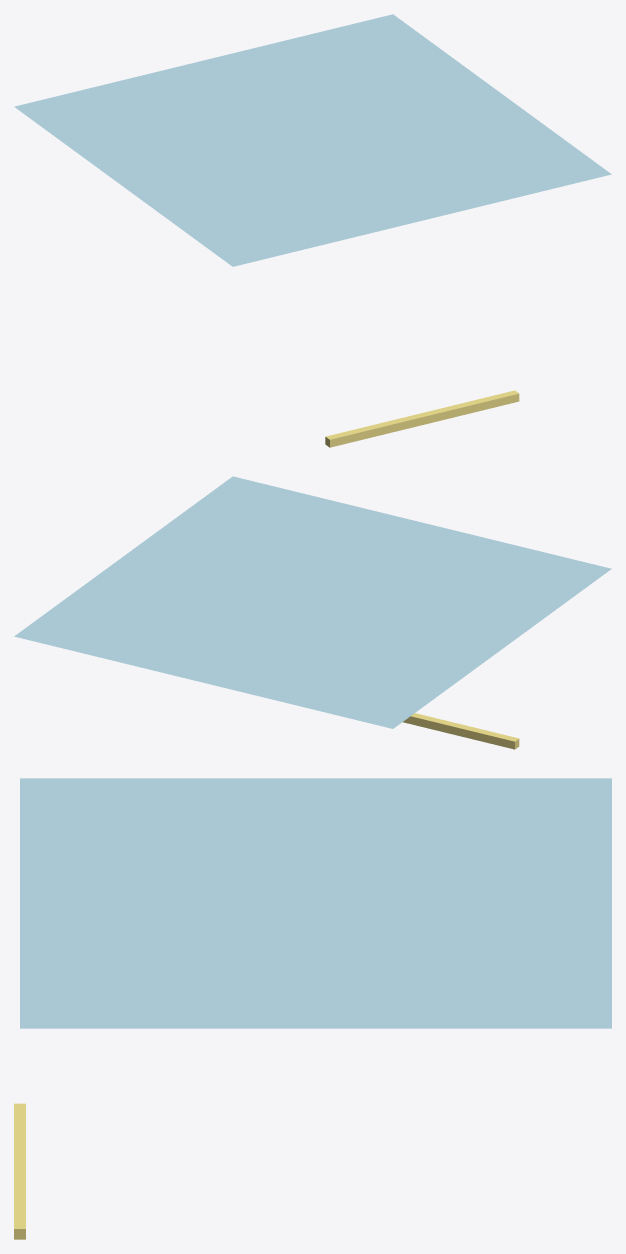
File: triangular-prism.glb
3 views of the same model, one above another, from view 1: azimuth 30°, elevation 25°; view 2: azimuth 150°, elevation 25°; view 3: azimuth 270°, elevation 25° (orthographic). The views are drawn at different scales.
Visible parts, largest first — view 1: triangular_prism, base_edge; view 2: triangular_prism, base_edge; view 3: triangular_prism, base_edge.
Boxes of the visible parts, x1,y1,x2,y2 form: triangular_prism: [14, 14, 611, 266]; base_edge: [325, 390, 519, 447]; triangular_prism: [14, 476, 611, 728]; base_edge: [403, 713, 519, 749]; triangular_prism: [20, 778, 611, 1028]; base_edge: [14, 1103, 25, 1239].
Bounding box in the file's own units: 1.32 × 0.6755 × 1.34.
